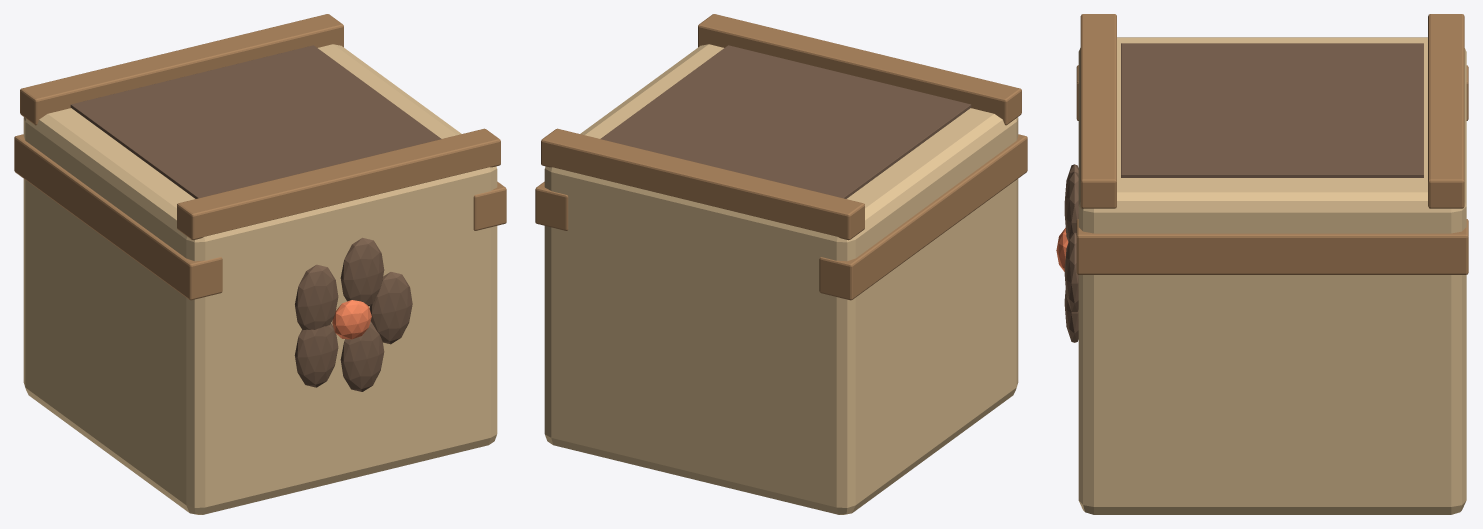
Rendered from ritual_masu.glb.
3 renders of one model, left to right at view 1: azimuth 30°, elevation 25°; view 2: azimuth 150°, elevation 25°; view 3: azimuth 270°, elevation 25°, orthographic. The views are drawn at different scales.
Visible parts, largest first — view 1: Carved square wooden masu, Visible deep black cup interior, Masu top end-grain, Masu top end-grain.001, Masu interlocking wooden joinery, Masu burn-stamped mark_petal01, Masu burn-stamped mark_petal02, Masu burn-stamped mark_petal00, Masu burn-stamped mark_petal03, Masu burn-stamped mark_petal04, Masu interlocking wooden joinery.001, Masu burn-stamped mark_center; view 2: Carved square wooden masu, Visible deep black cup interior, Masu top end-grain.001, Masu top end-grain, Masu interlocking wooden joinery, Masu interlocking wooden joinery.001; view 3: Carved square wooden masu, Visible deep black cup interior, Masu interlocking wooden joinery.001, Masu top end-grain.001, Masu top end-grain, Masu burn-stamped mark_petal00, Masu burn-stamped mark_petal01.
Part boxes in pixels (box(x1,y1,x2,y2)): Carved square wooden masu: box(23, 44, 497, 514); Visible deep black cup interior: box(70, 45, 441, 198); Masu top end-grain: box(177, 128, 500, 240); Masu top end-grain.001: box(20, 14, 343, 125); Masu interlocking wooden joinery: box(14, 134, 222, 300); Masu burn-stamped mark_petal01: box(340, 237, 384, 306); Masu burn-stamped mark_petal02: box(295, 264, 338, 329); Masu burn-stamped mark_petal00: box(369, 272, 412, 344); Masu burn-stamped mark_petal03: box(294, 323, 338, 387); Masu burn-stamped mark_petal04: box(340, 321, 384, 391); Masu interlocking wooden joinery.001: box(473, 181, 506, 230); Masu burn-stamped mark_center: box(332, 300, 371, 339); Carved square wooden masu: box(544, 44, 1018, 514); Visible deep black cup interior: box(600, 45, 971, 198); Masu top end-grain.001: box(541, 128, 864, 240); Masu top end-grain: box(698, 14, 1021, 125); Masu interlocking wooden joinery: box(819, 134, 1027, 300); Masu interlocking wooden joinery.001: box(535, 181, 568, 230); Carved square wooden masu: box(1078, 37, 1466, 514); Visible deep black cup interior: box(1121, 43, 1423, 177); Masu interlocking wooden joinery.001: box(1076, 219, 1468, 274); Masu top end-grain.001: box(1428, 14, 1464, 208); Masu top end-grain: box(1080, 14, 1116, 208); Masu burn-stamped mark_petal00: box(1064, 232, 1078, 312); Masu burn-stamped mark_petal01: box(1064, 172, 1078, 241).
Size of the model in its own units: 1.92 by 1.78 by 1.95.
